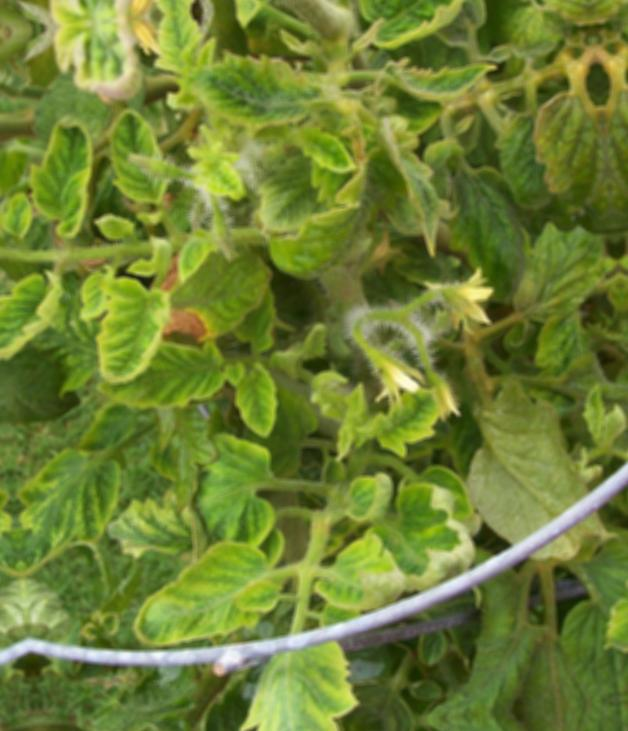Tomato leaf yellow virus: (165, 24, 357, 144), (123, 531, 293, 648), (69, 244, 192, 393), (230, 602, 362, 731), (61, 338, 236, 419), (251, 136, 369, 245), (296, 532, 416, 629), (26, 109, 109, 246), (0, 265, 73, 382), (356, 0, 496, 53), (106, 100, 172, 212), (223, 339, 291, 445), (349, 381, 447, 453), (148, 10, 218, 107), (587, 544, 628, 659)
